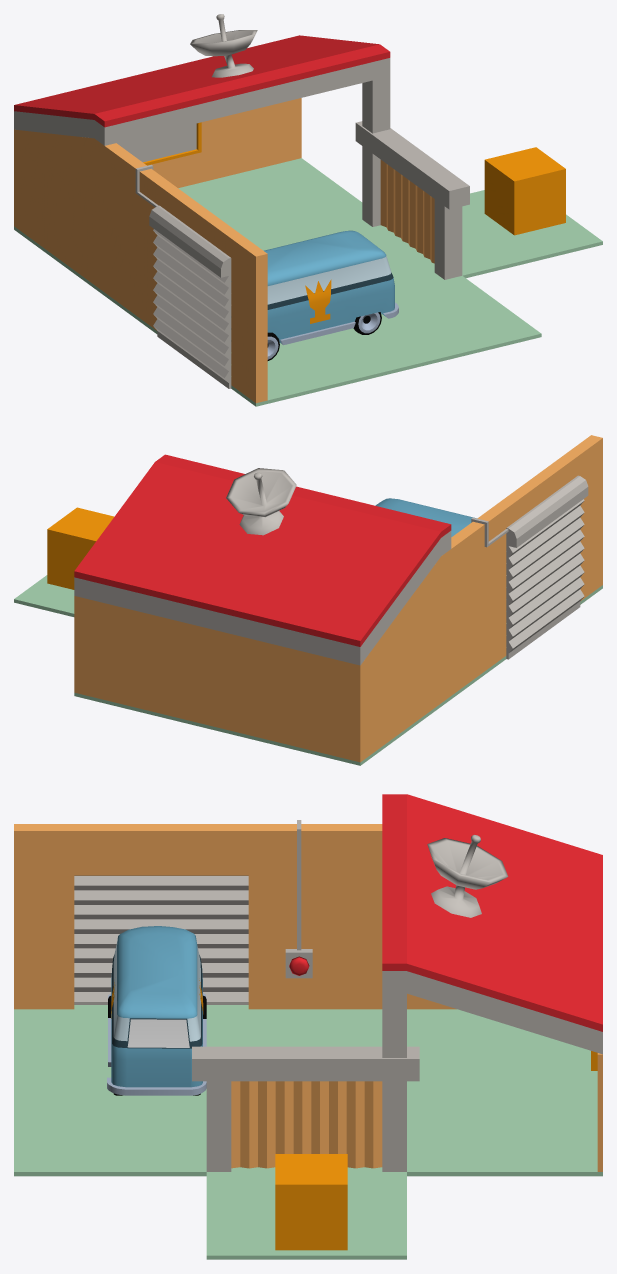
The model's file is Garage.fbx.
3 renders of one model, top to bottom at view 1: azimuth 30°, elevation 25°; view 2: azimuth 150°, elevation 25°; view 3: azimuth 270°, elevation 25°, orthographic. The views are drawn at different scales.
Parts seen in each view (by area): view 1: Floor01, Roof, Wall01, Van, LiftDoor, Wall02, Concrate, Wall03, Statue, Floor02, HiddenDoor, Panel; view 2: Roof, Wall03, Wall01, LiftDoor, Wall02, Statue, Floor01, ExtraColumn, Floor02, Van; view 3: Floor01, Roof, Wall01, LiftDoor, Van, Concrate, HiddenDoor, Floor02, Statue, ButtonWire, Wall03.
Boxes of the visible parts, bbox=[...] form: Floor01: bbox=[14, 158, 541, 406]; Roof: bbox=[14, 14, 390, 145]; Wall01: bbox=[94, 139, 267, 403]; Van: bbox=[231, 230, 398, 360]; LiftDoor: bbox=[149, 205, 231, 388]; Wall02: bbox=[16, 130, 94, 284]; Concrate: bbox=[116, 76, 469, 279]; Wall03: bbox=[149, 98, 301, 188]; Statue: bbox=[484, 147, 565, 235]; Floor02: bbox=[462, 190, 602, 278]; HiddenDoor: bbox=[380, 160, 434, 263]; Panel: bbox=[134, 122, 201, 165]; Roof: bbox=[74, 454, 451, 665]; Wall03: bbox=[74, 596, 348, 759]; Wall01: bbox=[441, 435, 602, 702]; LiftDoor: bbox=[506, 475, 588, 659]; Wall02: bbox=[362, 557, 440, 760]; Statue: bbox=[47, 507, 113, 589]; Floor01: bbox=[74, 585, 602, 765]; ExtraColumn: bbox=[348, 663, 362, 762]; Floor02: bbox=[14, 575, 74, 616]; Van: bbox=[375, 498, 506, 611]; Floor01: bbox=[14, 1005, 602, 1176]; Roof: bbox=[382, 794, 602, 1054]; Wall01: bbox=[14, 824, 382, 1009]; LiftDoor: bbox=[74, 875, 248, 1004]; Van: bbox=[107, 926, 206, 1095]; Concrate: bbox=[192, 993, 419, 1171]; HiddenDoor: bbox=[231, 1081, 382, 1168]; Floor02: bbox=[206, 1172, 406, 1259]; Statue: bbox=[275, 1154, 347, 1250]; ButtonWire: bbox=[285, 820, 312, 978]; Wall03: bbox=[597, 1053, 602, 1171].
Bounding box in the file's own units: 6.23 × 2.94 × 5.98.
